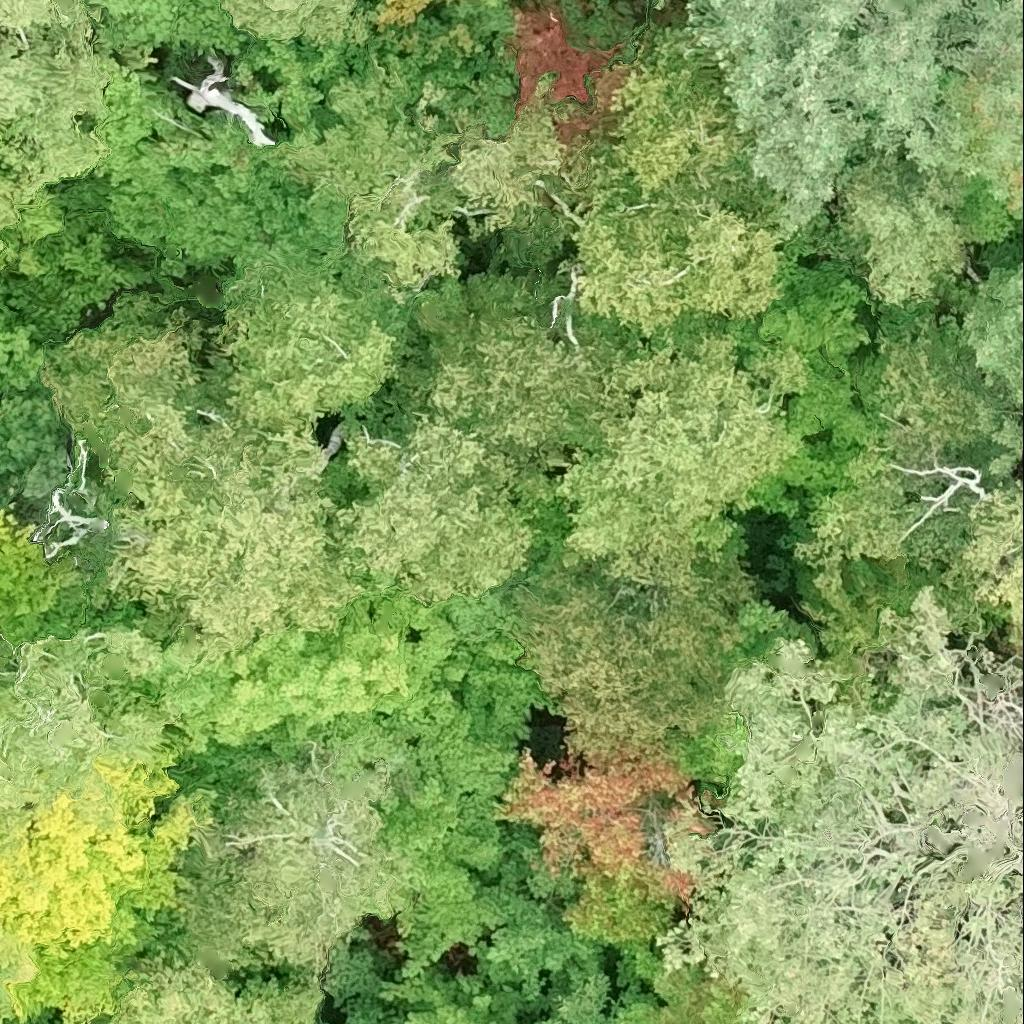crown: (667, 590, 1023, 1023), (351, 21, 799, 328), (45, 312, 353, 650), (683, 0, 1023, 231), (550, 334, 798, 596), (234, 0, 522, 214), (96, 39, 354, 276), (179, 741, 397, 981), (331, 711, 522, 976), (510, 558, 755, 764), (0, 759, 179, 1023), (424, 264, 626, 459), (329, 416, 530, 604), (213, 262, 395, 429), (501, 749, 700, 880), (0, 0, 110, 190), (791, 448, 907, 591), (109, 968, 326, 1023), (617, 944, 766, 1023), (960, 481, 1023, 651), (85, 0, 247, 66), (28, 436, 109, 557), (963, 266, 1023, 412), (171, 59, 271, 146), (220, 0, 375, 46), (0, 166, 62, 274), (381, 0, 432, 34), (994, 418, 1023, 472), (0, 965, 18, 1023), (476, 0, 508, 9), (657, 0, 669, 8), (451, 0, 465, 2), (1022, 187, 1023, 190), (1023, 155, 1023, 159)
